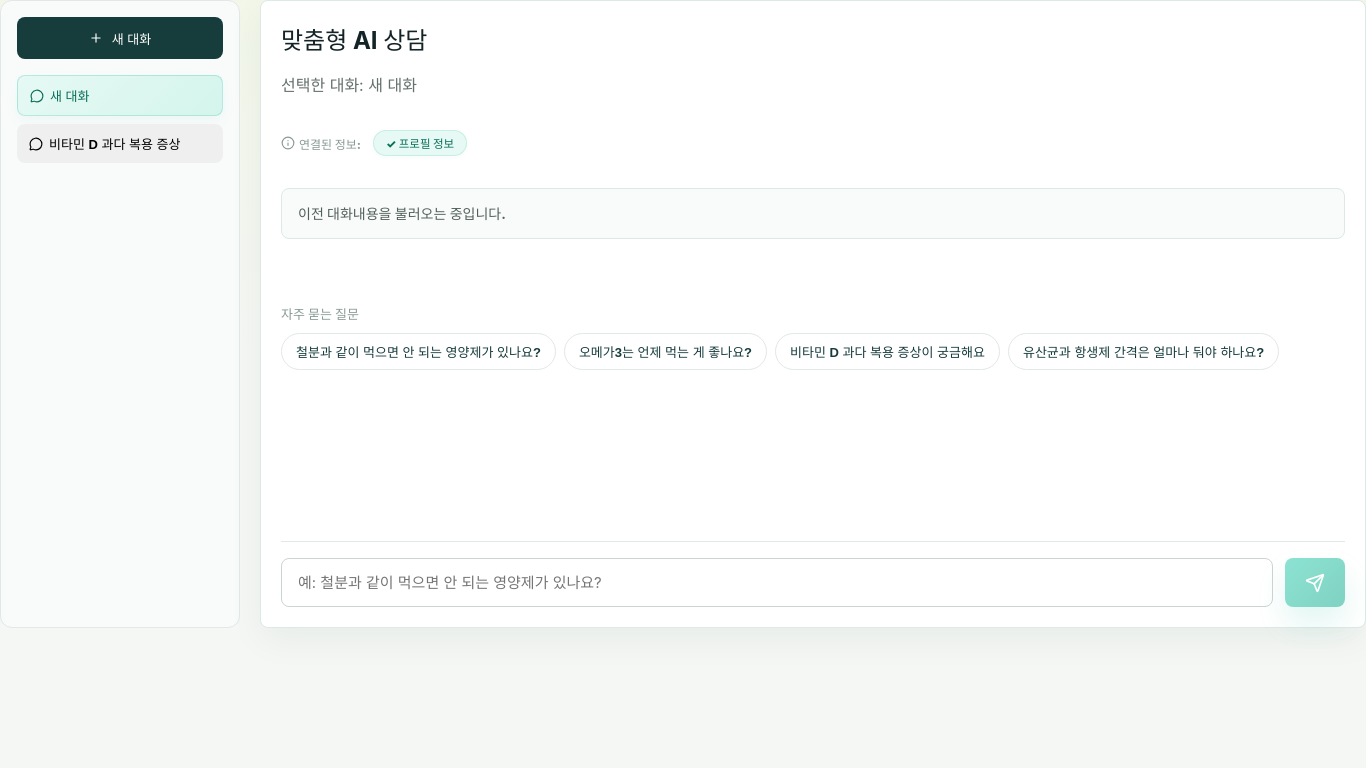
Test: ChatPage previous conversations › keeps the selected conversation when an earlier message request resolves late
The width and height of the screenshot is (1366, 768).
Expected: the element with class "chat-sidebar" is shown, [0,0,240,628]
Click the button "비타민 D 과다 복용 증상" at (120, 144), box [17,124,223,163]
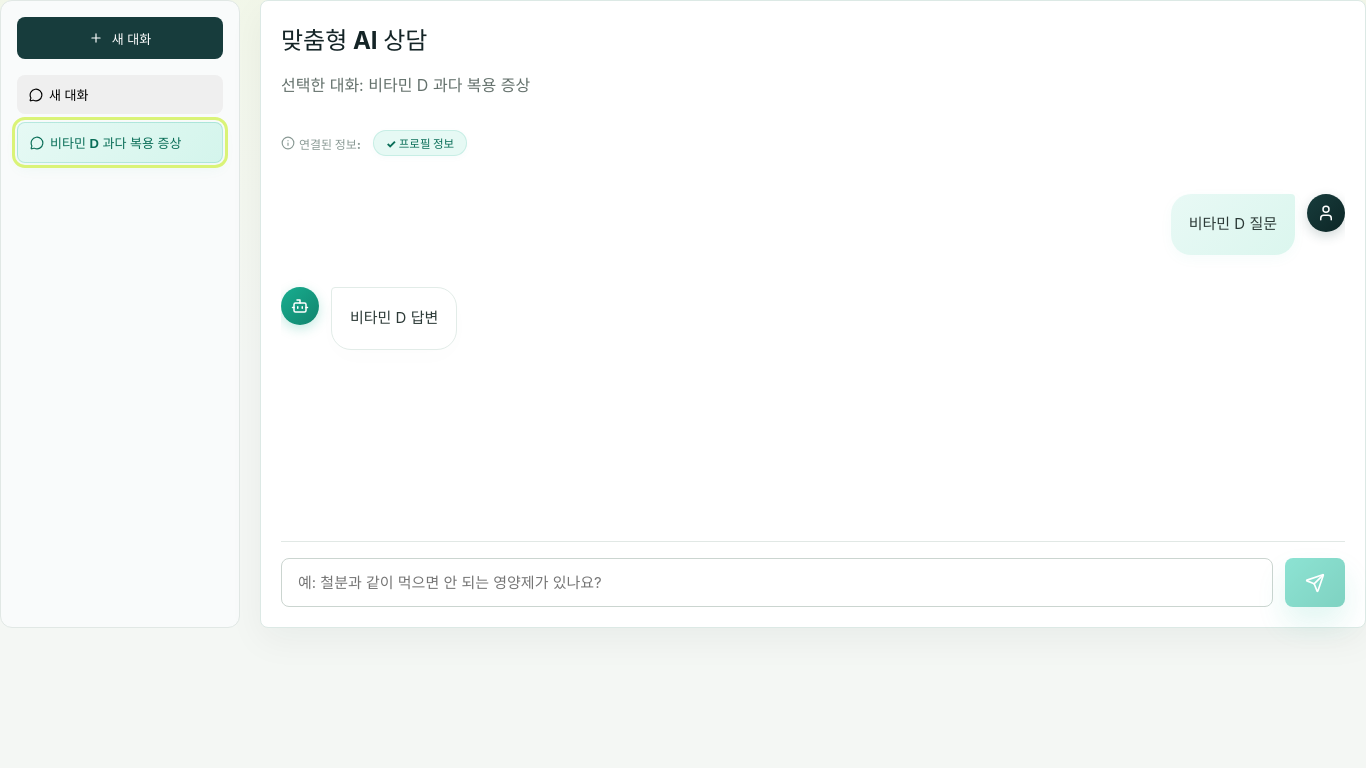
Expected: the text "비타민 D 답변" is shown, [350,306,438,331]
Expected: the text "비타민 D 질문" is shown, [1189,212,1277,237]
